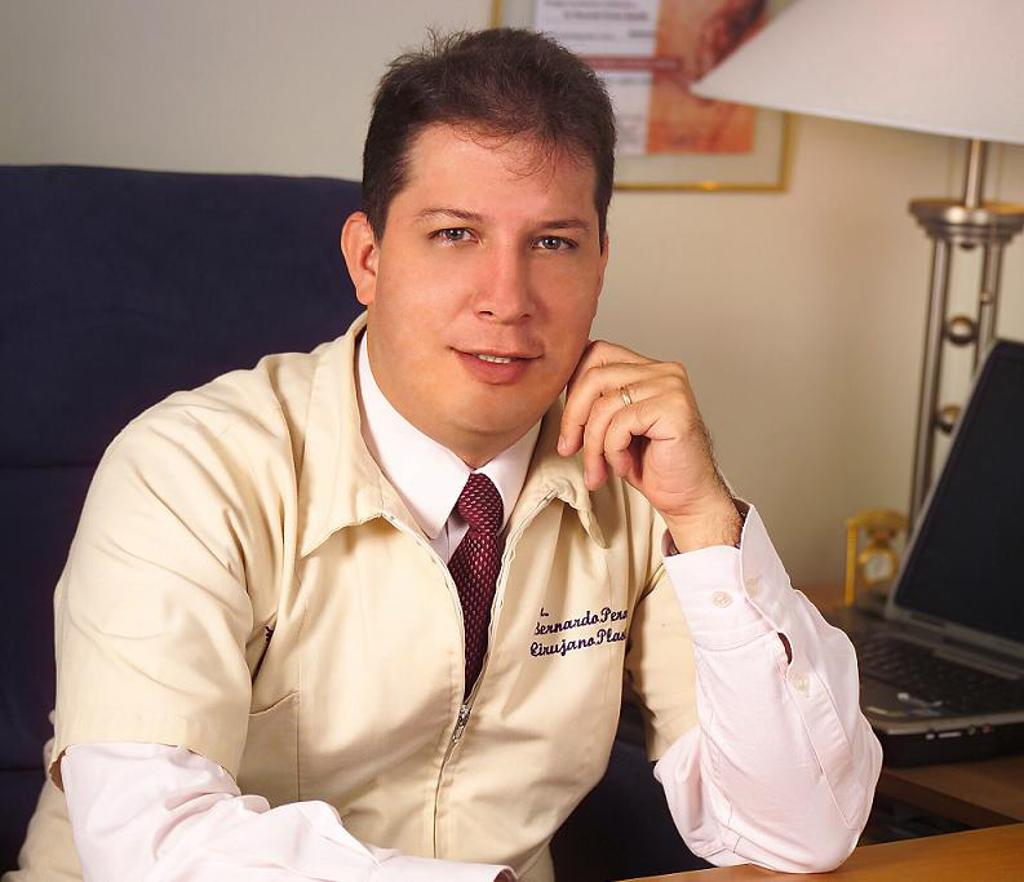face: (386, 122, 602, 430)
